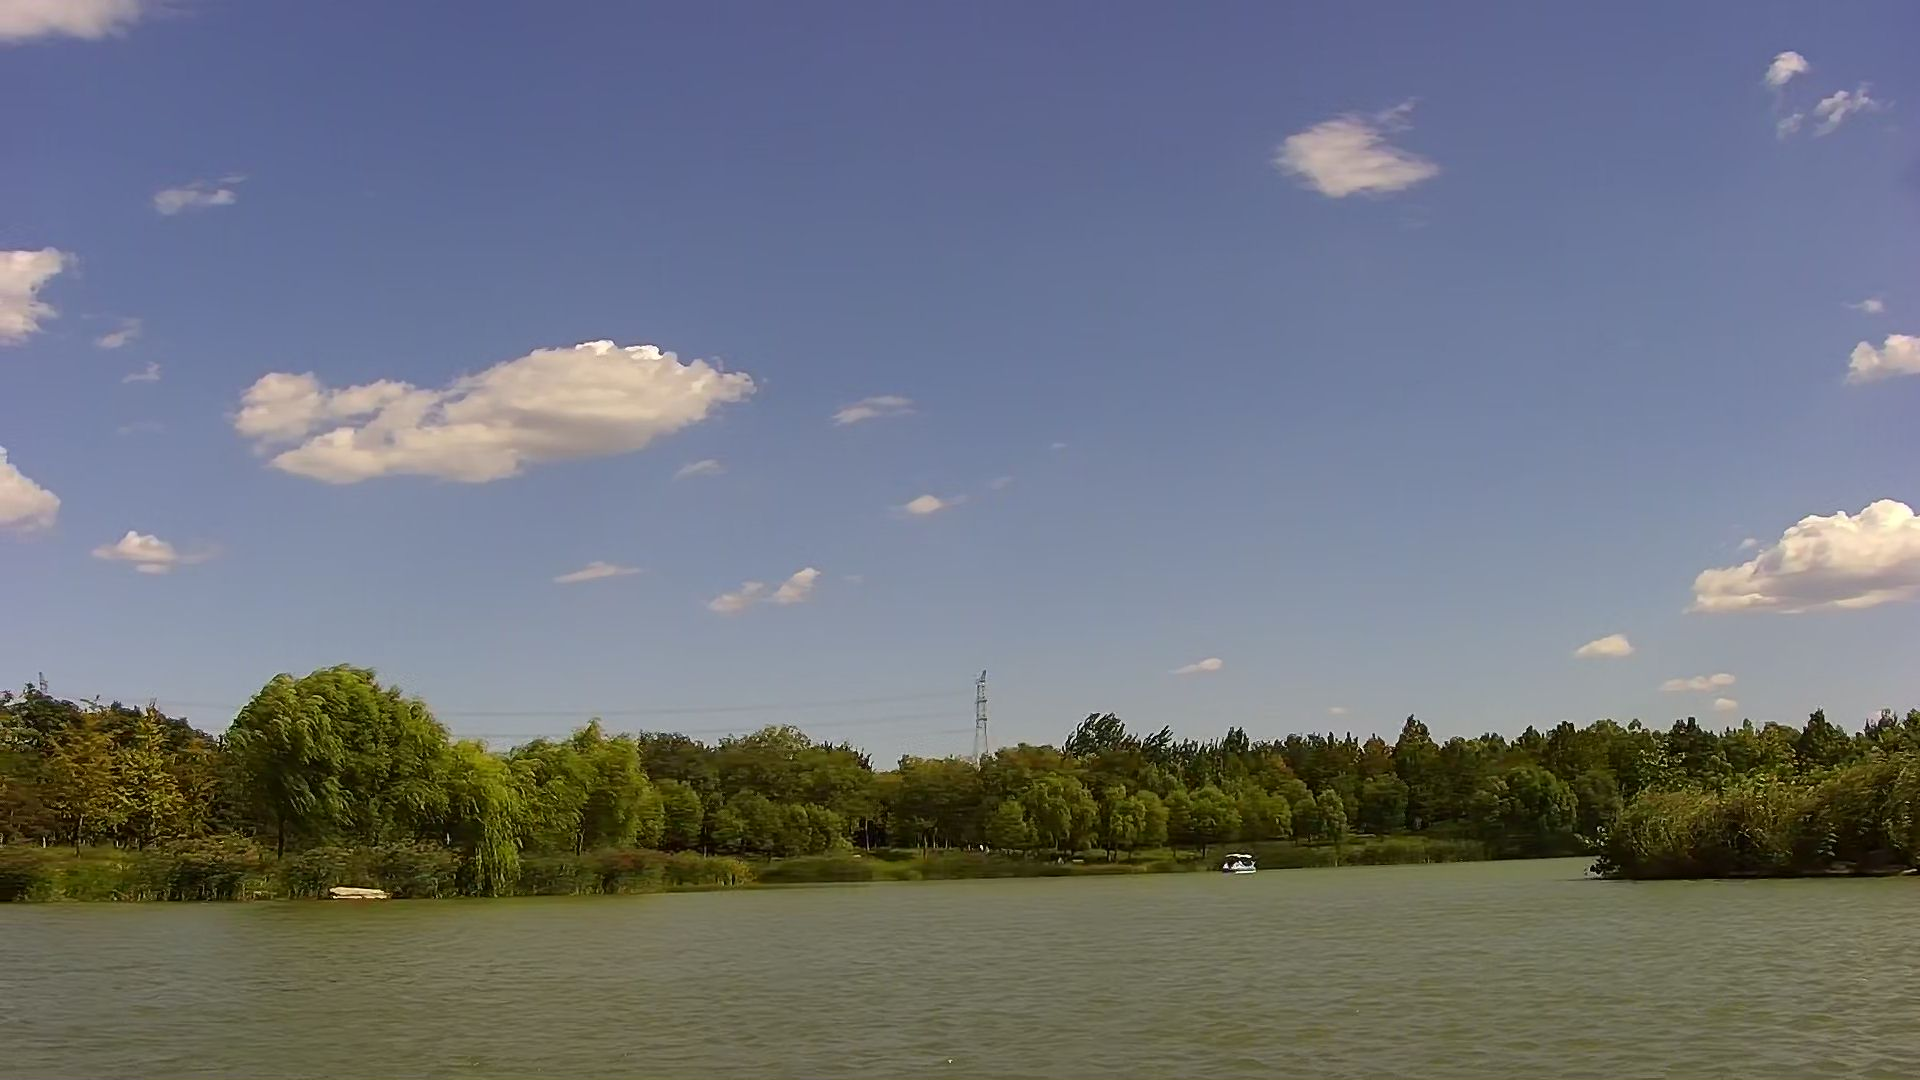boat: (1220, 851, 1263, 876)
